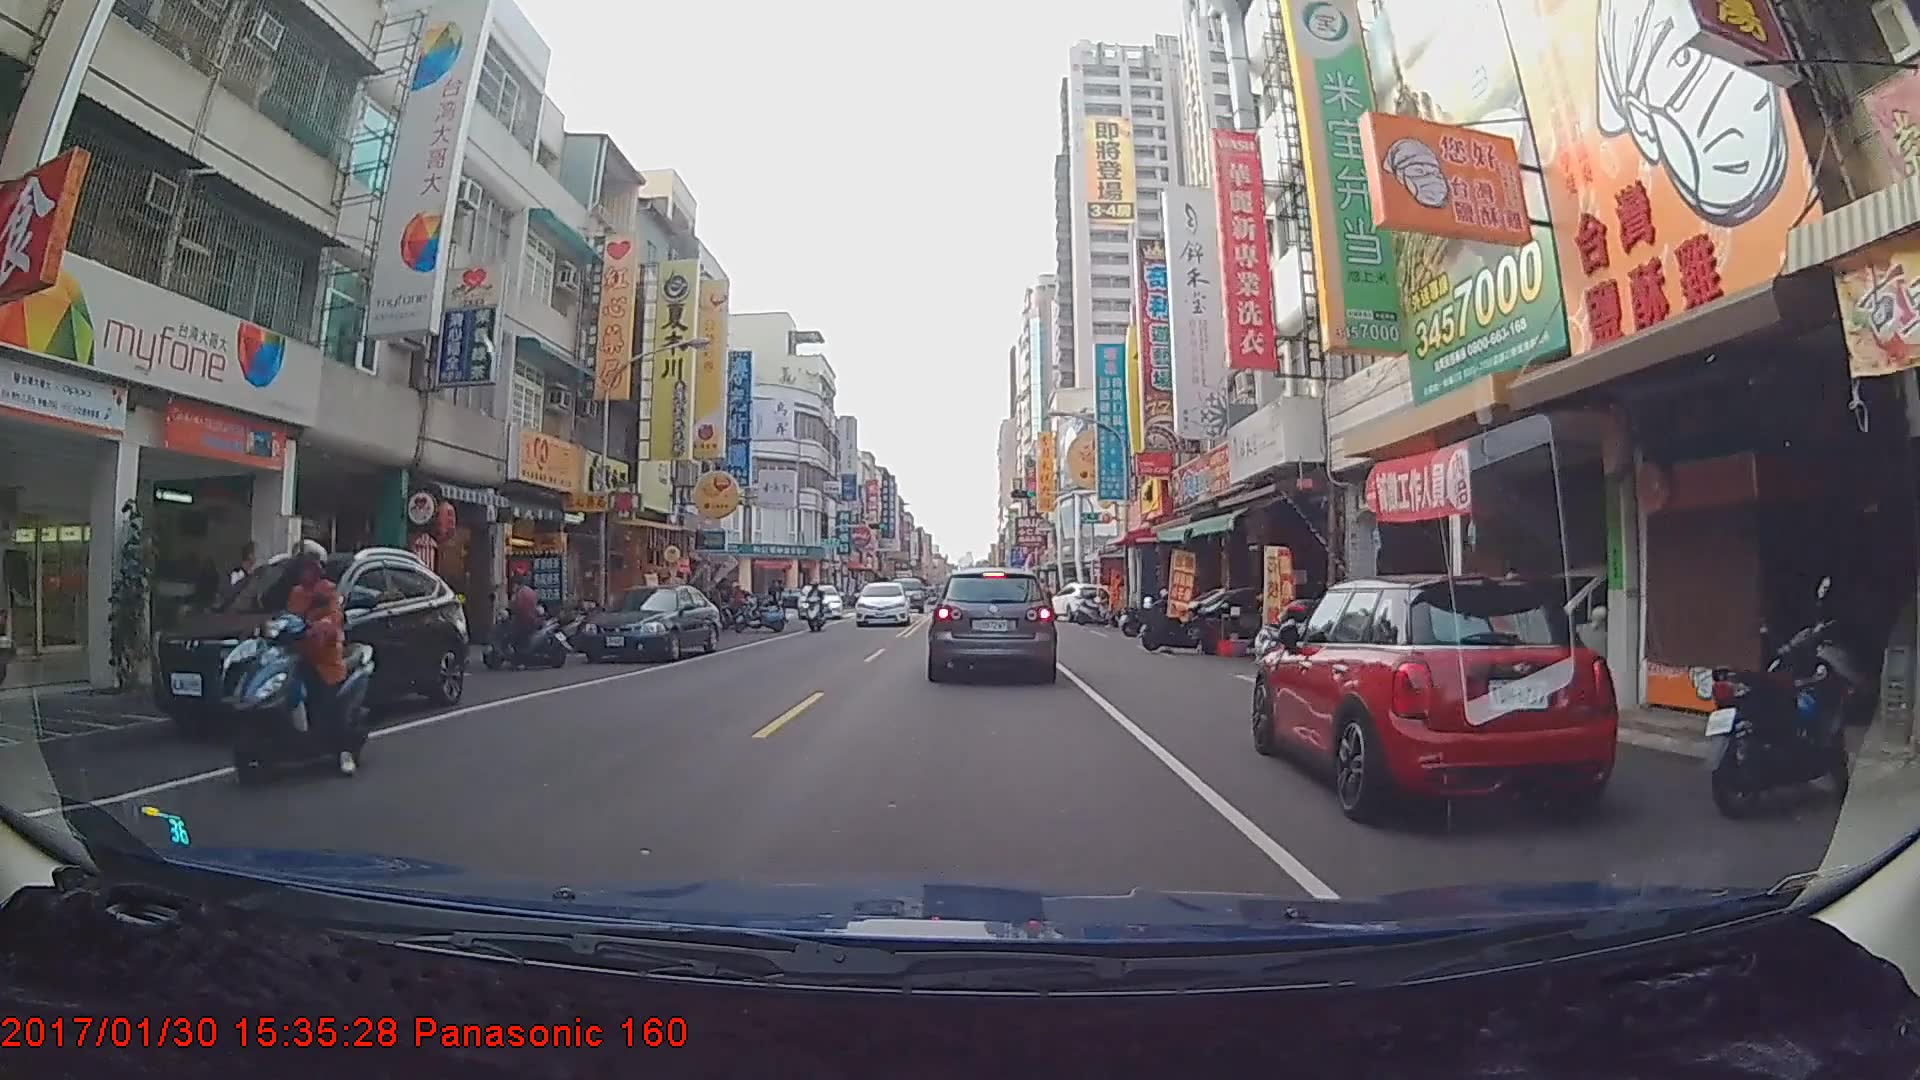rider: (225, 536, 378, 788), (477, 567, 580, 675), (801, 583, 829, 636)
vehicle: (1260, 568, 1610, 817), (145, 548, 469, 743), (928, 564, 1055, 680), (576, 588, 721, 664), (1046, 581, 1109, 623), (852, 580, 910, 624), (796, 582, 843, 619)
